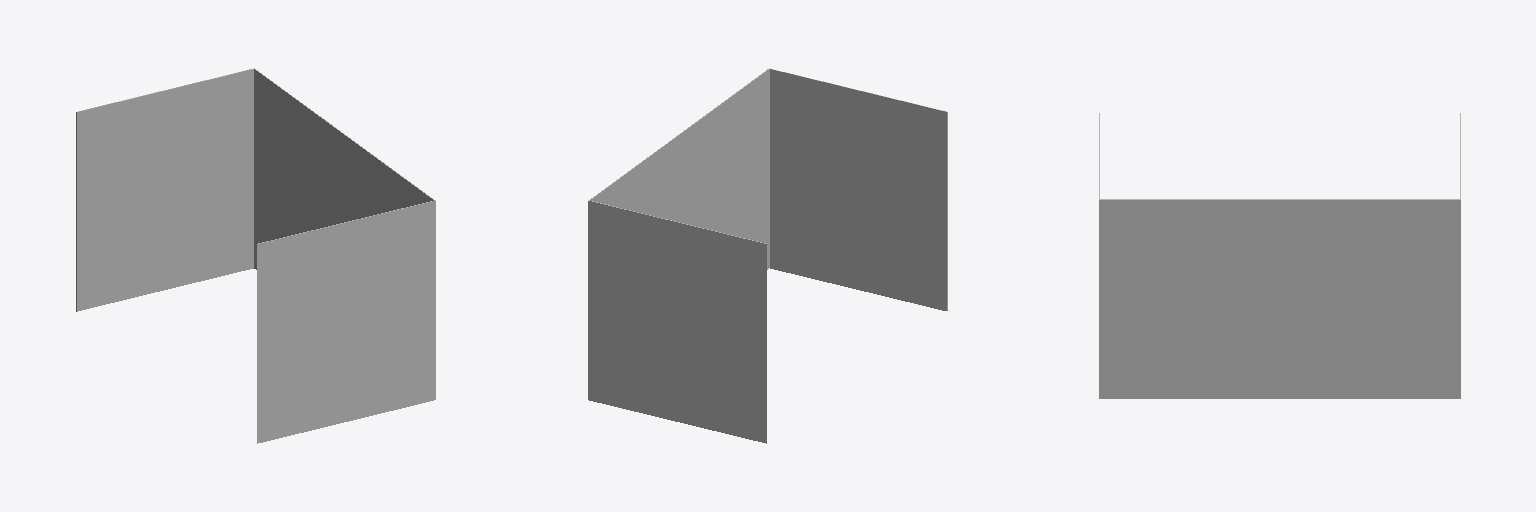
File: vidrio.obj
The picture shows the model from 3 angles: view 1: azimuth 30°, elevation 25°; view 2: azimuth 150°, elevation 25°; view 3: azimuth 270°, elevation 25°; orthographic projection.
Visible parts, largest first — view 1: polySurface72 polySurface71 polySurface68; view 2: polySurface72 polySurface71 polySurface68; view 3: polySurface72 polySurface71 polySurface68.
Boxes of the visible parts, <box> form: polySurface72 polySurface71 polySurface68: <box>76,68,435,443</box>; polySurface72 polySurface71 polySurface68: <box>588,68,947,443</box>; polySurface72 polySurface71 polySurface68: <box>1099,113,1460,398</box>.
Bounding box in the file's own units: 1.49 × 1.6 × 2.62.